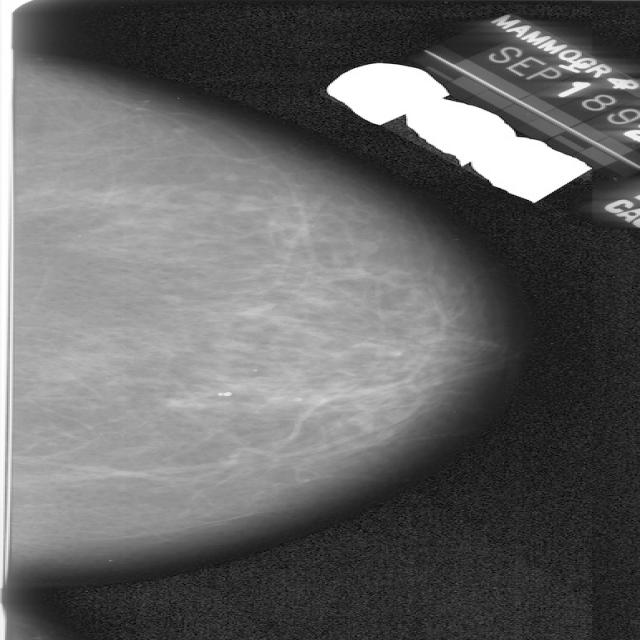tumour: (161, 391, 209, 411)
